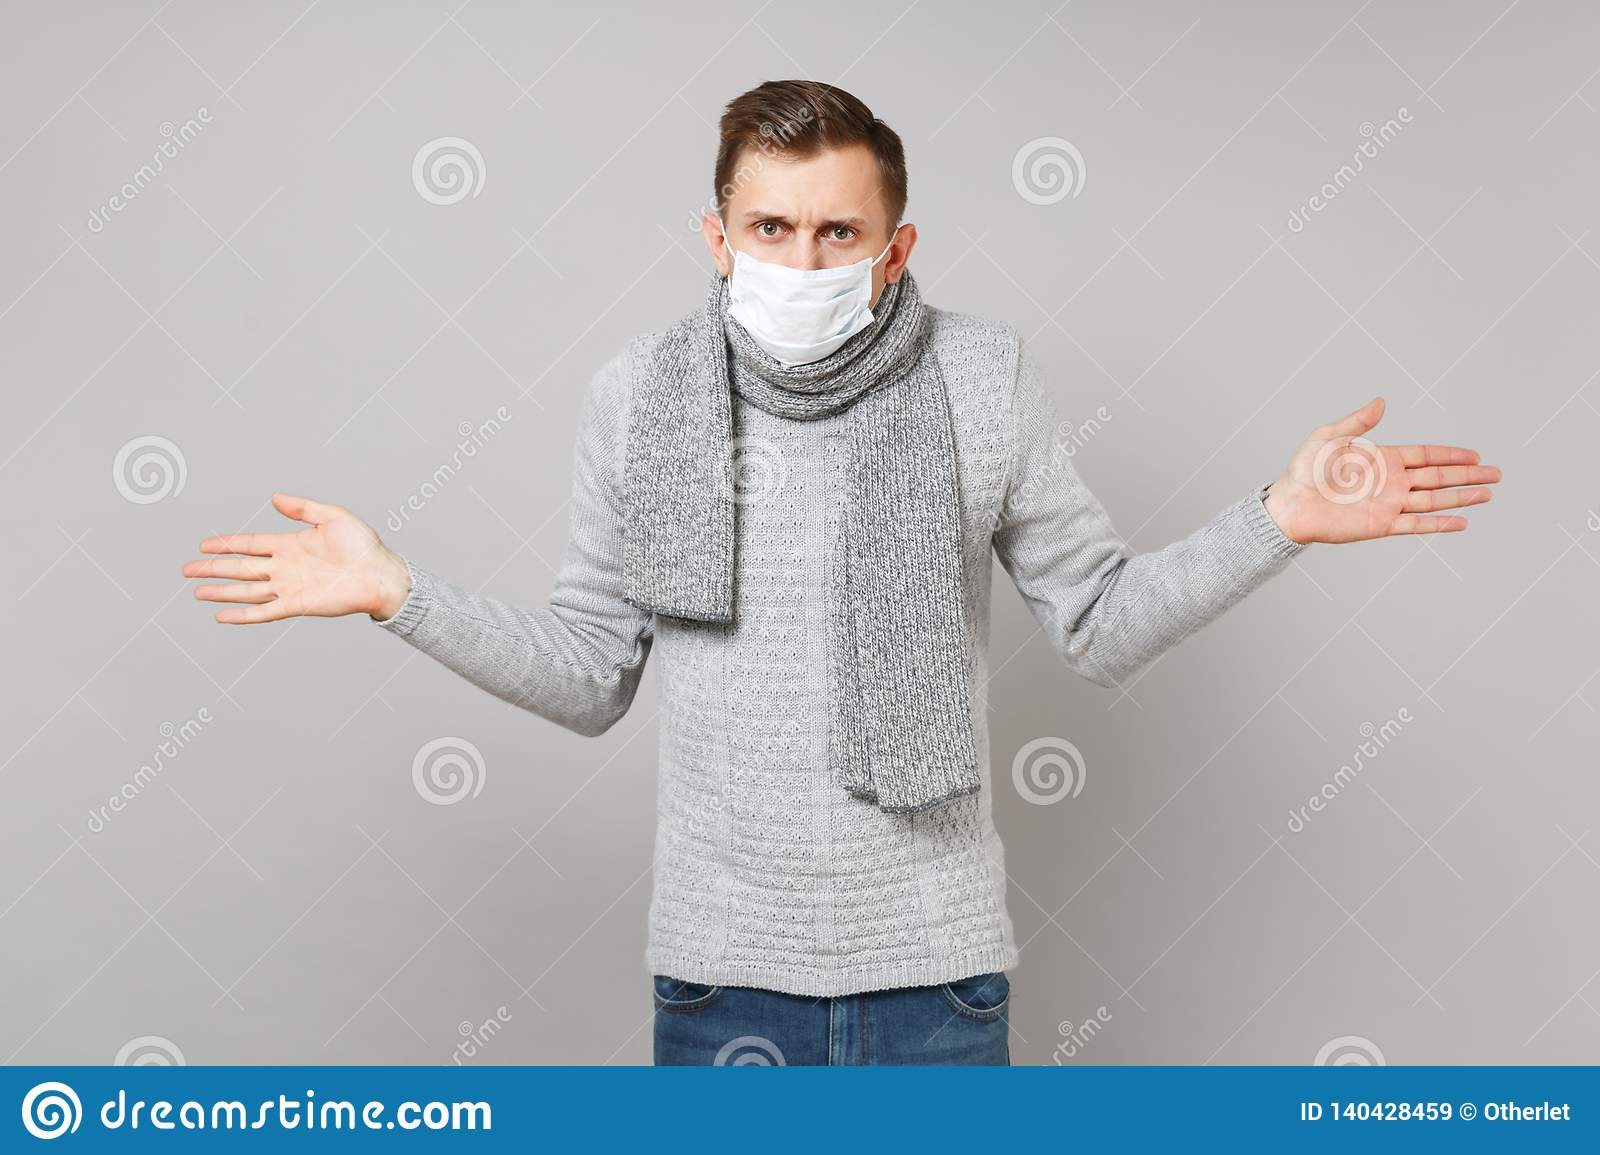mask: (729, 247, 882, 368)
